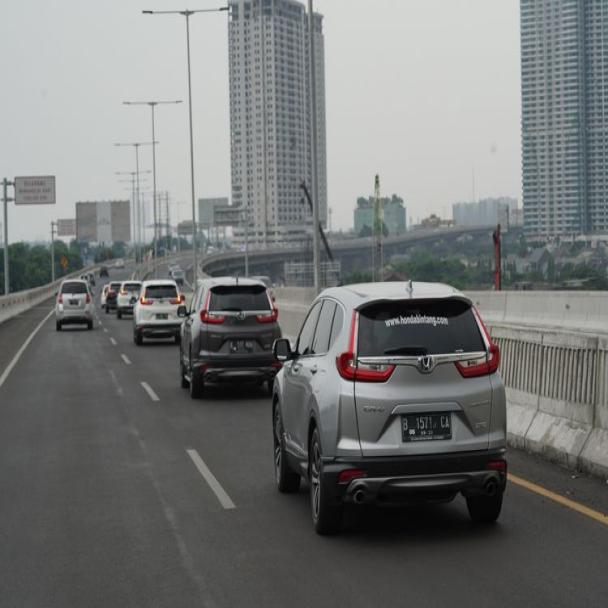Mobil: (274, 285, 512, 541), (179, 270, 274, 395), (132, 277, 178, 343), (54, 278, 92, 326)
